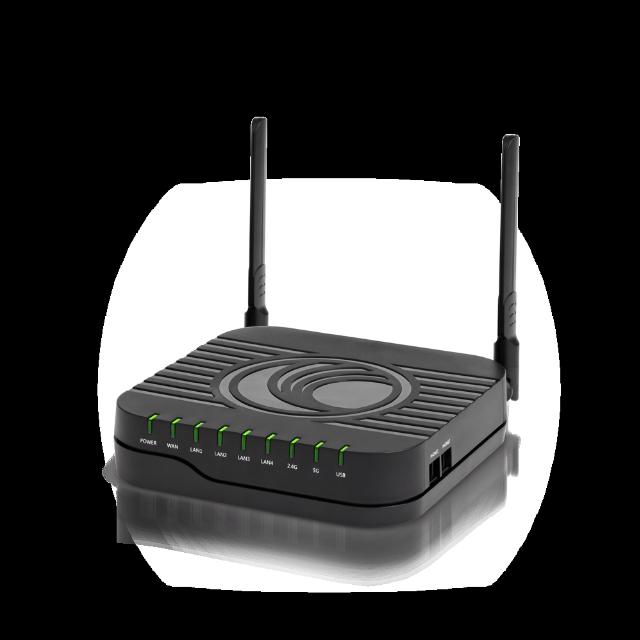Router: (115, 117, 518, 528)
